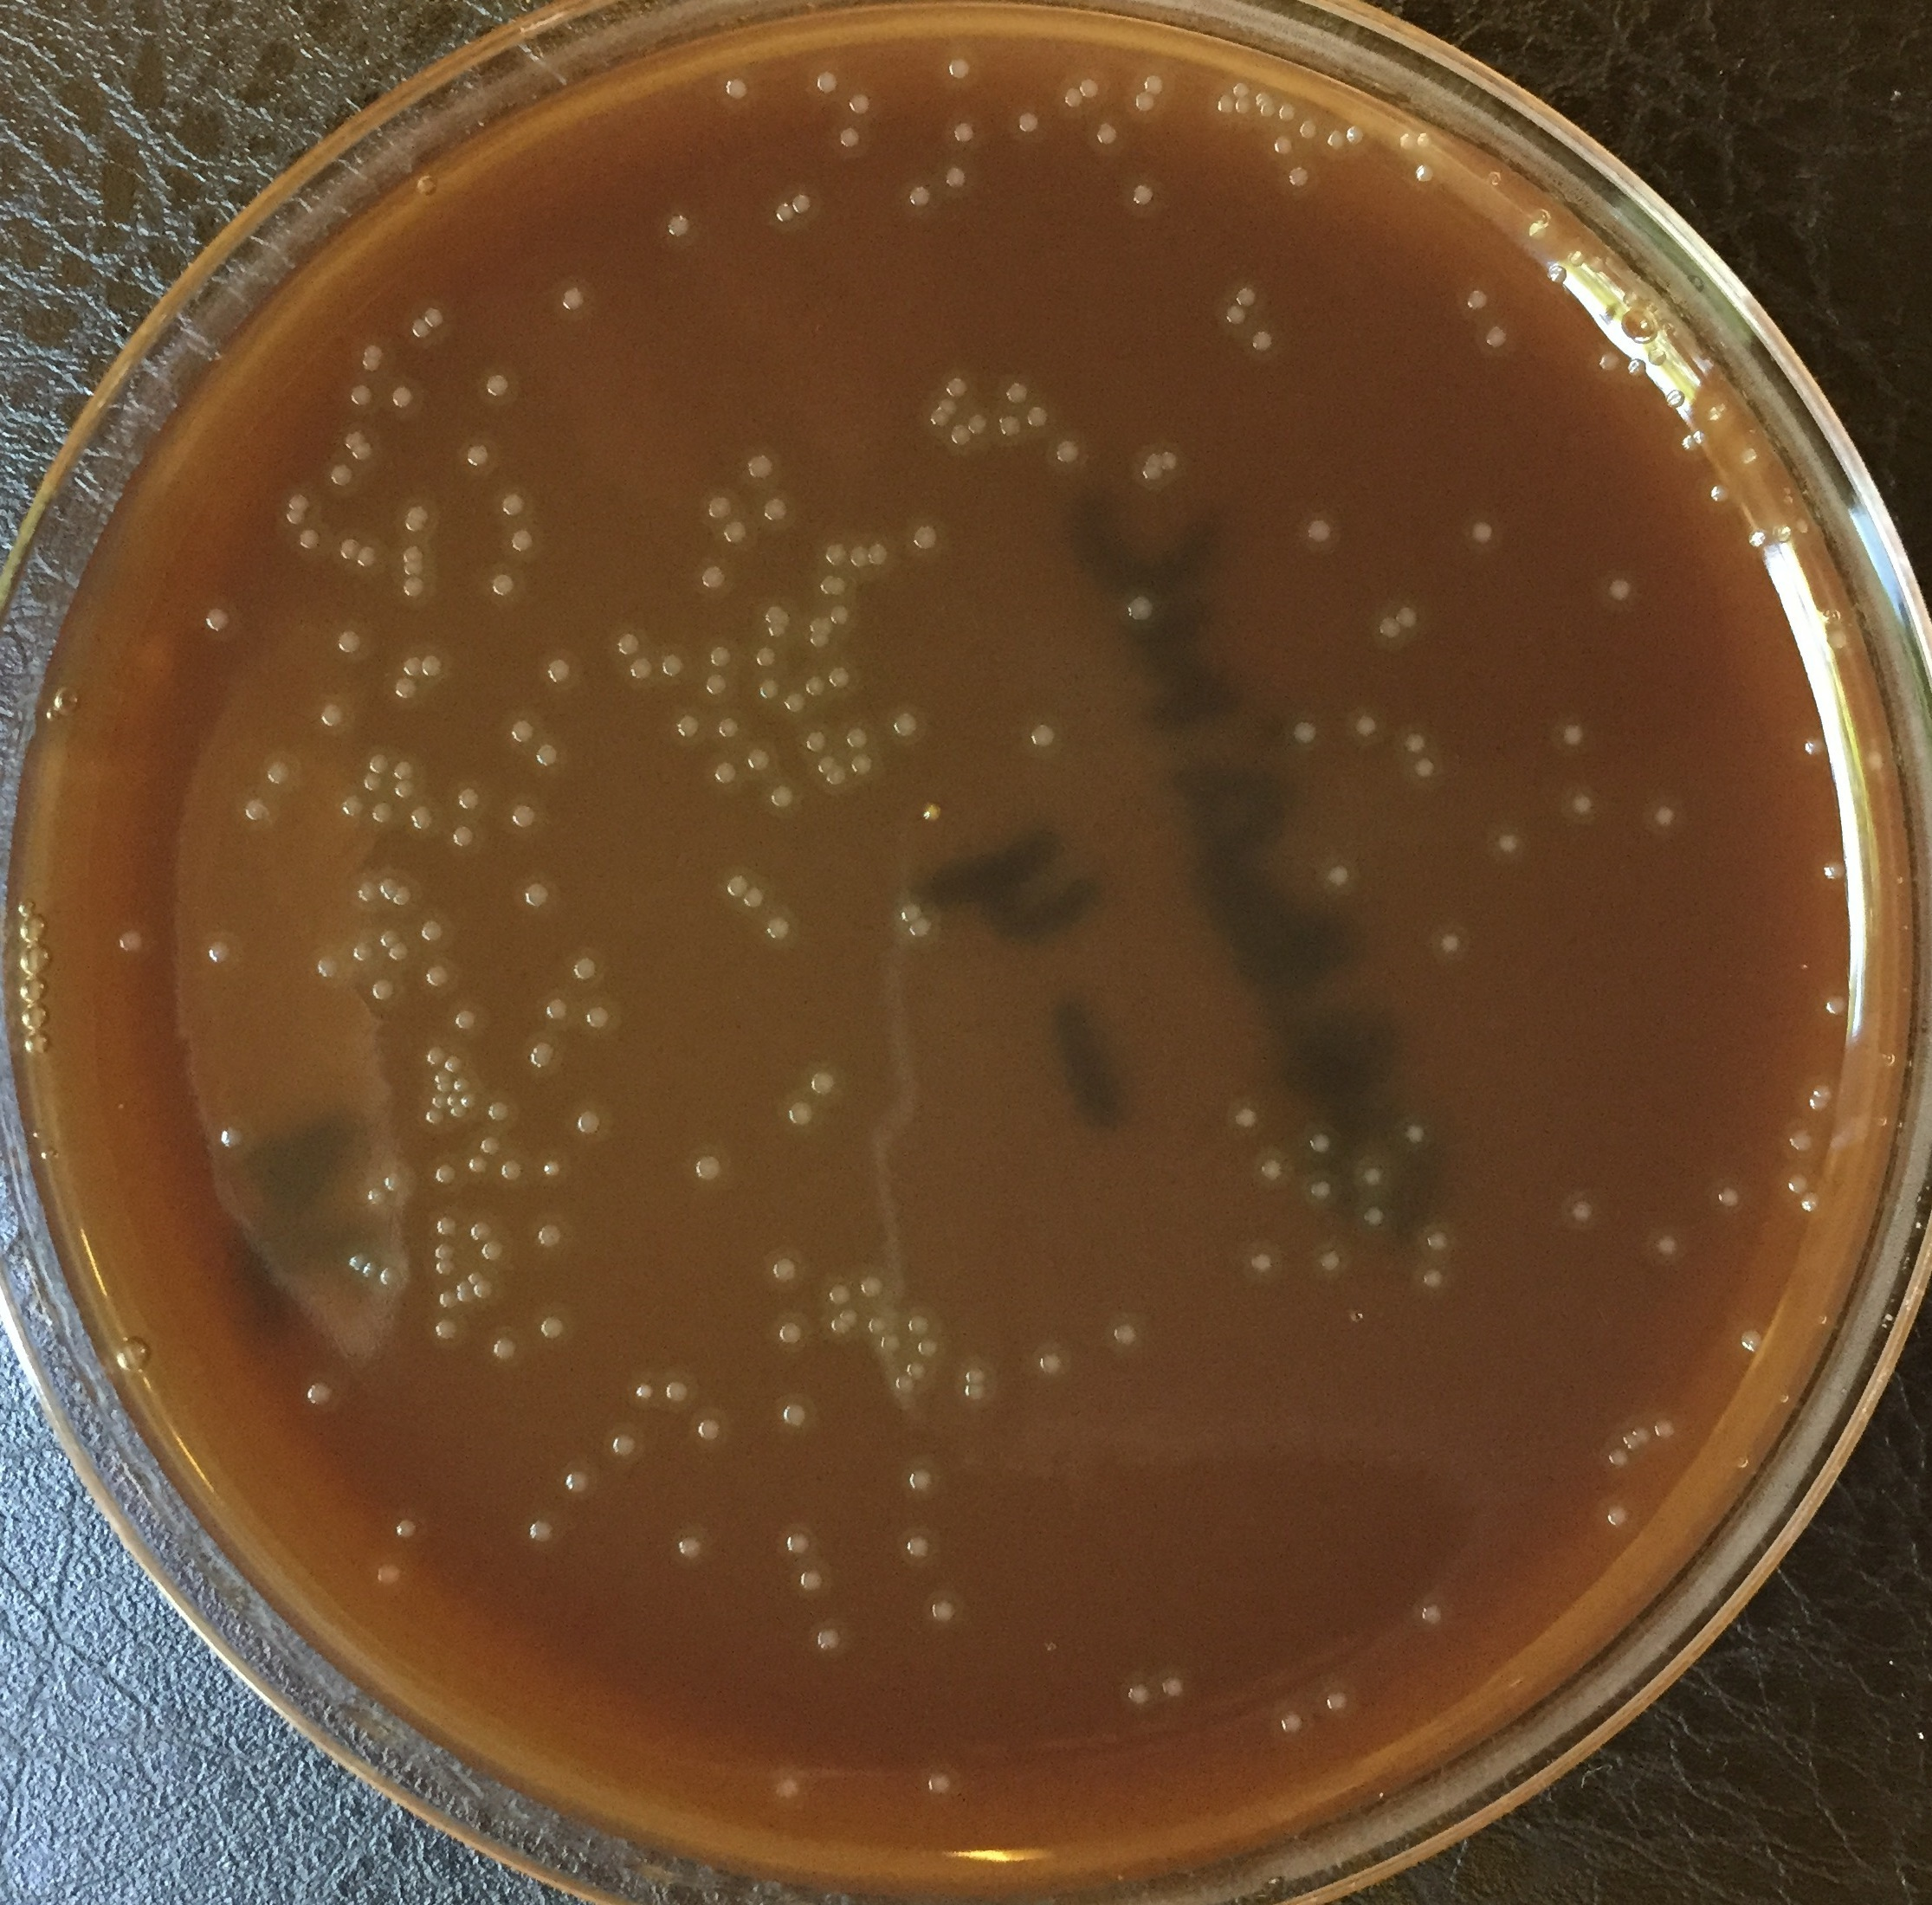sp10: (693, 556, 742, 612), (1853, 734, 1892, 787), (197, 600, 237, 640), (700, 487, 740, 523), (480, 1096, 520, 1129), (302, 1376, 340, 1410), (1812, 632, 1853, 661), (1339, 1303, 1375, 1335), (1246, 1249, 1283, 1280), (572, 1106, 604, 1141), (915, 797, 946, 830), (813, 1624, 846, 1656), (1126, 591, 1157, 625), (1024, 719, 1058, 750), (368, 975, 403, 1005), (372, 1560, 407, 1589), (1559, 720, 1592, 750), (218, 1122, 248, 1153), (527, 1038, 557, 1069), (490, 1333, 522, 1362), (571, 954, 602, 984), (452, 785, 482, 816), (532, 740, 562, 771), (534, 1223, 567, 1251), (904, 1530, 932, 1563), (775, 1321, 808, 1349), (115, 926, 145, 956), (1785, 1127, 1815, 1157), (335, 626, 365, 656), (661, 1378, 693, 1406), (609, 1430, 641, 1458), (693, 1415, 724, 1443), (525, 1518, 557, 1546), (784, 1526, 815, 1554), (1737, 1324, 1768, 1352), (1229, 1104, 1260, 1132), (1412, 752, 1440, 783), (770, 1258, 801, 1286), (764, 914, 796, 942), (539, 1312, 569, 1340), (1820, 855, 1850, 883), (913, 523, 941, 553), (1052, 438, 1082, 466), (1304, 518, 1333, 546), (1129, 180, 1159, 208), (693, 1155, 723, 1183), (787, 1099, 817, 1127), (810, 1069, 838, 1099), (585, 1005, 614, 1033), (904, 1465, 935, 1492), (775, 1772, 801, 1804), (1314, 1247, 1346, 1273), (1822, 987, 1848, 1019), (264, 761, 295, 787), (780, 1401, 808, 1429), (928, 1594, 956, 1622), (1565, 1197, 1593, 1225), (1716, 1183, 1744, 1211), (1353, 714, 1380, 741), (1623, 358, 1651, 386), (826, 1280, 853, 1308), (859, 1275, 887, 1303), (510, 802, 538, 830), (798, 1565, 824, 1594), (1606, 1499, 1632, 1528), (1290, 717, 1319, 743), (1004, 380, 1030, 410), (1110, 1321, 1140, 1347), (483, 372, 510, 401), (925, 1769, 956, 1793), (522, 883, 553, 907), (419, 919, 445, 947), (422, 961, 449, 989), (545, 996, 571, 1024), (391, 1518, 419, 1544), (677, 1532, 705, 1558), (1126, 1680, 1152, 1708), (1159, 1673, 1185, 1701), (1405, 1122, 1433, 1148), (1424, 1226, 1452, 1253), (1606, 576, 1634, 602), (745, 455, 773, 481), (761, 495, 787, 523), (944, 375, 972, 401), (545, 656, 571, 684), (707, 642, 735, 668), (745, 747, 771, 775), (464, 443, 492, 469), (560, 284, 586, 312), (663, 213, 691, 239), (206, 940, 236, 965), (1401, 729, 1431, 754), (1543, 262, 1572, 286), (318, 703, 347, 727), (335, 536, 365, 560), (562, 1471, 588, 1497), (1604, 1444, 1630, 1471), (1803, 734, 1829, 761), (1017, 110, 1044, 136), (419, 652, 445, 679), (829, 665, 855, 691), (887, 710, 913, 736), (815, 70, 841, 96), (316, 953, 340, 980), (497, 1157, 522, 1185), (1417, 1601, 1445, 1626), (1326, 864, 1354, 888), (1651, 802, 1679, 827), (1483, 324, 1511, 349), (1470, 518, 1494, 546), (1222, 304, 1250, 328), (724, 871, 749, 898), (740, 881, 764, 909), (906, 914, 930, 942), (244, 799, 272, 823), (510, 715, 534, 743), (627, 656, 654, 680), (501, 490, 525, 518), (353, 942, 379, 966), (454, 1007, 478, 1033), (422, 1047, 449, 1071), (433, 1317, 459, 1342), (468, 1218, 492, 1244), (1257, 1157, 1283, 1181), (995, 413, 1021, 438), (1464, 288, 1490, 312), (1096, 120, 1120, 147), (1234, 283, 1258, 309), (1286, 166, 1311, 192), (391, 677, 415, 703), (370, 801, 394, 827), (661, 652, 686, 679), (675, 714, 702, 738), (803, 729, 829, 754), (845, 726, 871, 750), (770, 785, 796, 809), (510, 529, 536, 553), (724, 77, 750, 101), (948, 56, 972, 82), (951, 119, 976, 145), (1655, 1230, 1677, 1258), (1572, 790, 1595, 818), (752, 645, 780, 668), (1035, 1352, 1063, 1375), (478, 1136, 506, 1158), (351, 441, 379, 464), (1326, 1687, 1351, 1711), (1419, 1267, 1443, 1291), (1361, 1205, 1386, 1230), (1394, 607, 1419, 632), (723, 522, 747, 546), (1024, 405, 1049, 429), (916, 1336, 941, 1361), (894, 1375, 918, 1399), (410, 804, 435, 829), (452, 823, 476, 848), (714, 761, 738, 785), (297, 529, 321, 553), (838, 126, 862, 150), (944, 167, 969, 192), (1279, 1711, 1305, 1734), (1375, 616, 1401, 638), (1143, 464, 1169, 487), (1663, 387, 1686, 413), (339, 794, 365, 816), (824, 766, 850, 789), (391, 386, 417, 408), (1038, 1633, 1059, 1661), (1436, 932, 1464, 953), (826, 1317, 853, 1338), (435, 1212, 459, 1235), (438, 1289, 461, 1314), (473, 1279, 496, 1303), (1309, 1179, 1333, 1202), (1361, 1165, 1384, 1190), (1785, 1171, 1810, 1193), (1801, 1190, 1824, 1214), (826, 539, 848, 563), (948, 422, 970, 447), (1747, 525, 1770, 550), (1141, 75, 1166, 98), (1344, 120, 1367, 145), (1414, 162, 1436, 187), (906, 1357, 928, 1382), (368, 752, 391, 776), (354, 879, 377, 904), (391, 883, 414, 907), (716, 717, 738, 741), (616, 632, 641, 654), (803, 673, 826, 698), (330, 462, 353, 487), (354, 544, 379, 567), (401, 576, 426, 598), (490, 572, 513, 597), (408, 317, 433, 340), (846, 91, 869, 115), (909, 185, 932, 209), (1655, 1415, 1675, 1441), (1307, 1130, 1333, 1151), (1494, 832, 1520, 853), (867, 541, 888, 567), (967, 413, 993, 434), (759, 677, 780, 703), (848, 752, 874, 773), (454, 1277, 473, 1305), (407, 506, 435, 525), (377, 928, 400, 951), (389, 940, 412, 963), (377, 1265, 400, 1287), (433, 1164, 456, 1186), (433, 1239, 456, 1261), (435, 1260, 457, 1282), (1079, 77, 1101, 99), (1276, 101, 1298, 124), (867, 1312, 890, 1335), (346, 1251, 367, 1275), (1597, 349, 1621, 370), (1133, 92, 1157, 113), (1272, 133, 1293, 157), (880, 1331, 904, 1352), (906, 1315, 930, 1336), (401, 654, 422, 679), (393, 759, 414, 783), (379, 877, 400, 902), (703, 672, 724, 696), (349, 382, 373, 403), (445, 1052, 469, 1073), (848, 544, 867, 570), (424, 305, 443, 331), (482, 1239, 504, 1260), (1813, 1080, 1836, 1101), (829, 604, 850, 626), (1709, 483, 1731, 504), (1061, 89, 1084, 110), (1297, 119, 1319, 140), (363, 771, 386, 792), (288, 490, 311, 511), (401, 543, 422, 565), (791, 192, 812, 215), (1215, 94, 1234, 119), (962, 1366, 986, 1385), (965, 1382, 990, 1401), (342, 429, 367, 448), (805, 614, 831, 632), (1773, 520, 1791, 546), (634, 1380, 654, 1401), (1230, 79, 1251, 99), (899, 902, 920, 923), (775, 202, 796, 223), (424, 1108, 447, 1127), (468, 1155, 487, 1178), (1620, 1432, 1639, 1455), (1250, 330, 1272, 349), (1326, 127, 1346, 150), (1525, 222, 1548, 241), (768, 604, 789, 623), (428, 1090, 449, 1110), (365, 1188, 384, 1209), (1632, 1424, 1651, 1444), (1681, 434, 1700, 455), (1398, 131, 1417, 152), (393, 782, 414, 801), (784, 693, 805, 712), (815, 755, 836, 775), (1162, 450, 1180, 473), (1417, 131, 1435, 154), (1258, 99, 1274, 124), (452, 1075, 471, 1094), (445, 1087, 462, 1108), (1808, 1097, 1829, 1115), (363, 345, 384, 363), (1253, 85, 1271, 106), (819, 574, 834, 597), (812, 632, 831, 649), (541, 1162, 560, 1179), (928, 408, 948, 426), (1234, 98, 1251, 117), (839, 1308, 859, 1326), (382, 1174, 400, 1191), (466, 1270, 485, 1286), (361, 358, 380, 373), (834, 574, 846, 597), (461, 1092, 476, 1110), (433, 1071, 449, 1089), (449, 1106, 468, 1120), (764, 621, 785, 633)
